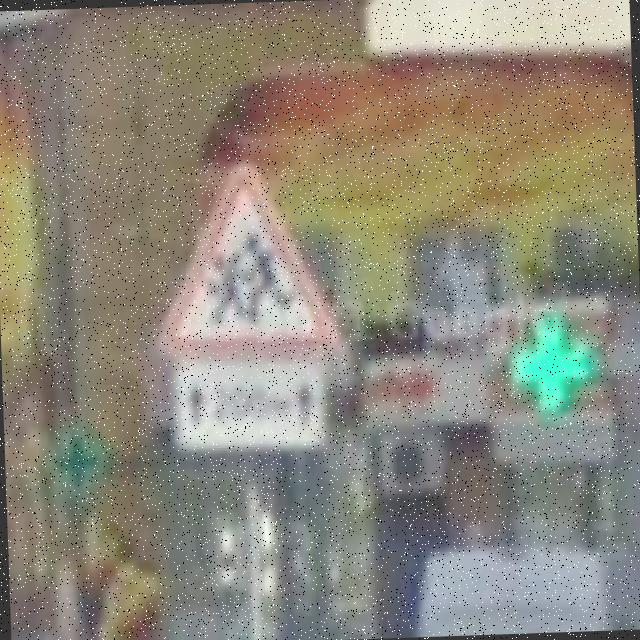Dzieci: (148, 150, 348, 364)
